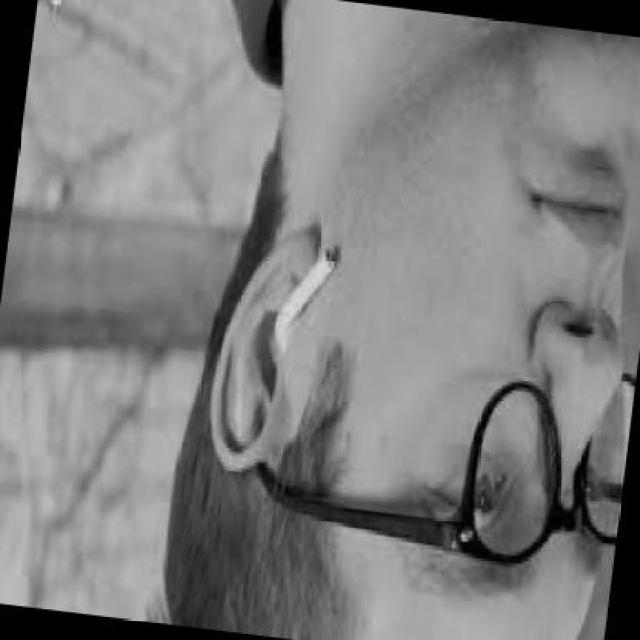earphone: (268, 207, 338, 359)
